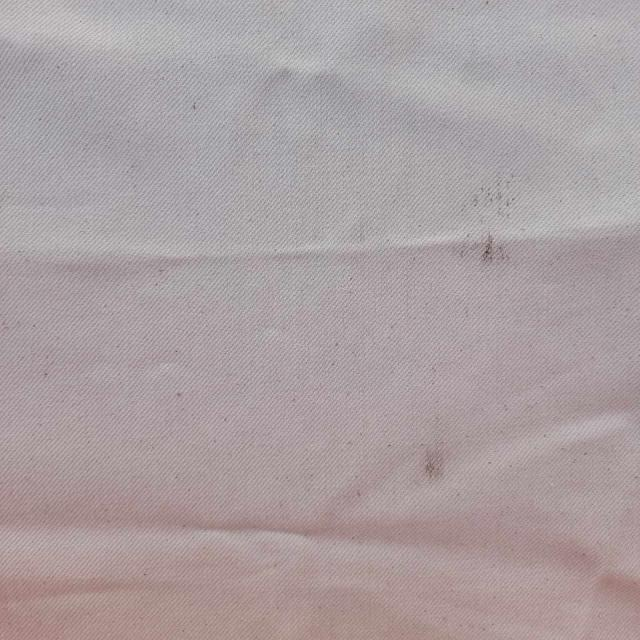taaaches: (446, 158, 524, 287), (391, 436, 462, 502)
